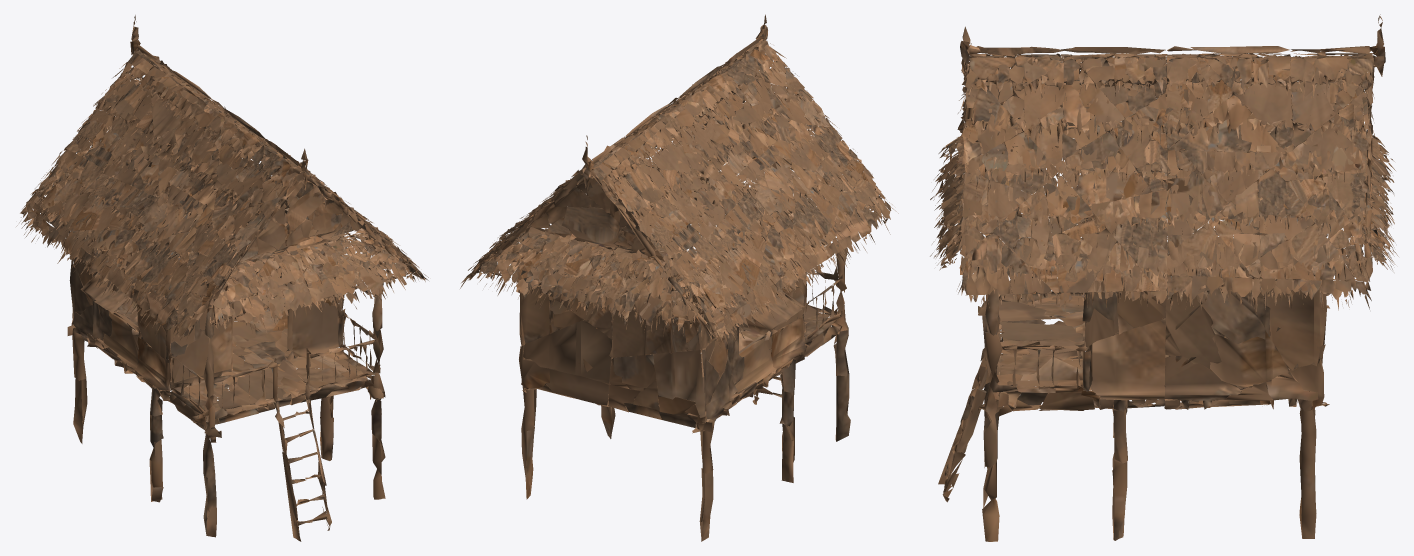
Rendered from SM_StiltedHouse_Thatched_BlenderOptimized.fbx.
3 renders of one model, left to right at view 1: azimuth 30°, elevation 25°; view 2: azimuth 150°, elevation 25°; view 3: azimuth 270°, elevation 25°, orthographic. The views are drawn at different scales.
Visible parts, largest first — view 1: Mesh_0; view 2: Mesh_0; view 3: Mesh_0.
Part boxes in pixels (bbox=[...]): Mesh_0: bbox=[16, 15, 428, 541]; Mesh_0: bbox=[460, 14, 898, 541]; Mesh_0: bbox=[930, 14, 1398, 541].
Size of the model in its own units: 1.31 by 1.9 by 1.69.
